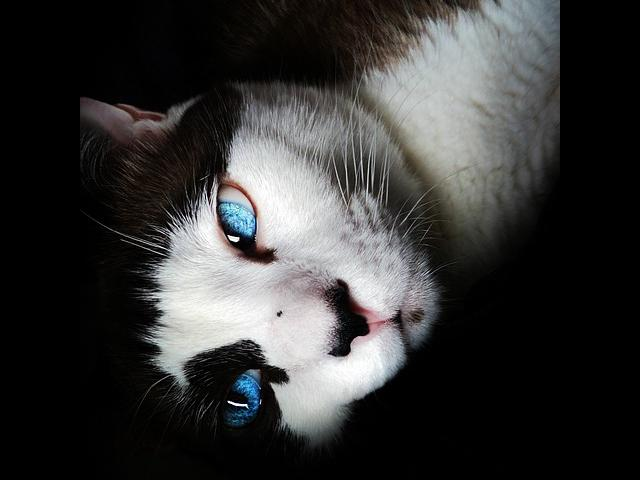cat: (80, 0, 558, 461)
